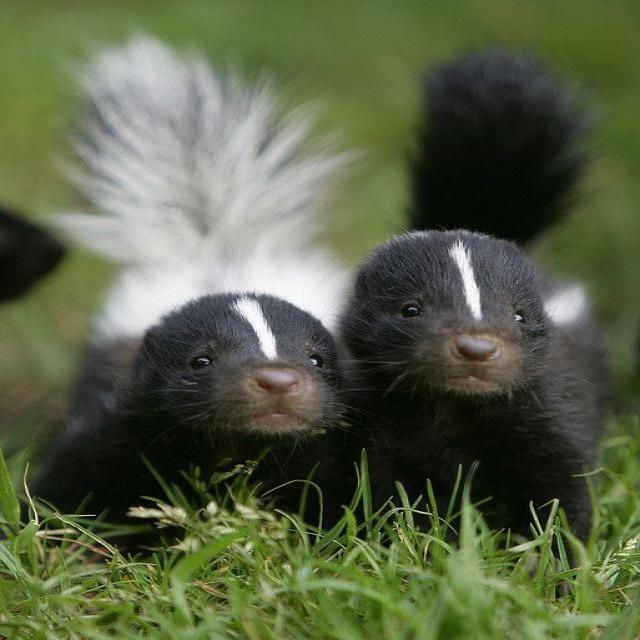Skunk: (8, 20, 363, 551)
